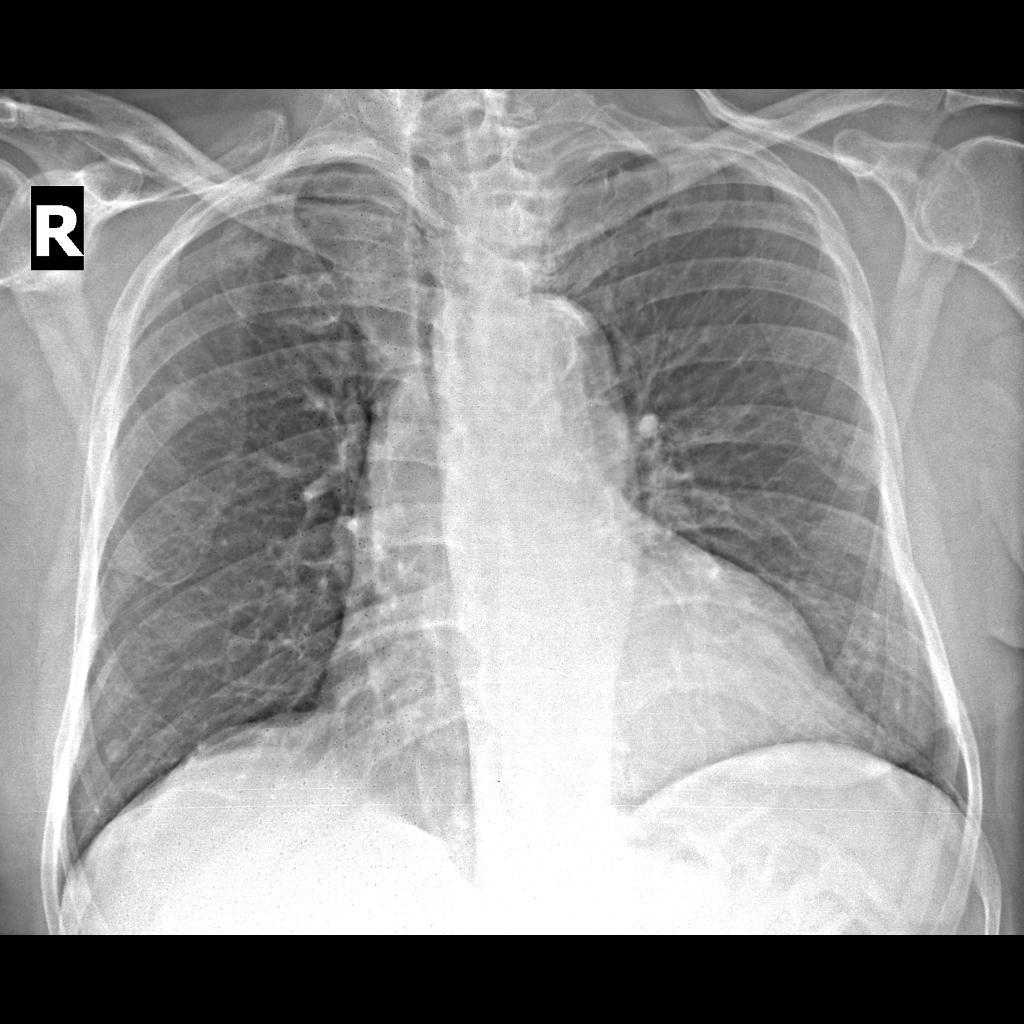Nodule: (99, 732, 138, 771)
